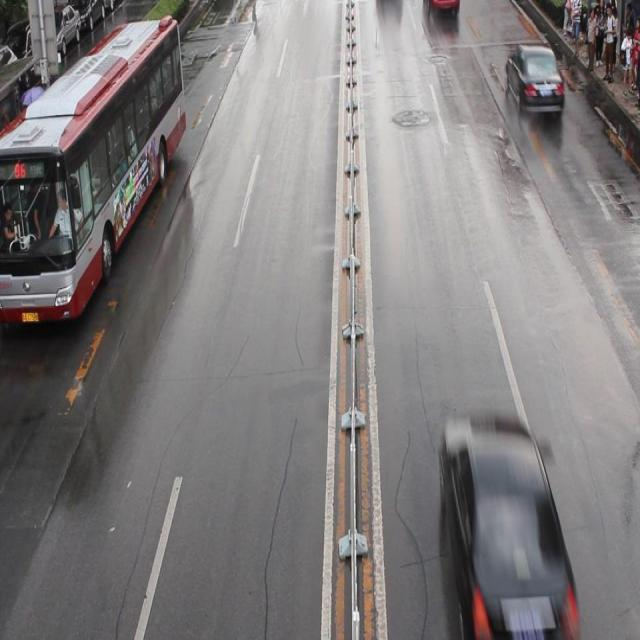car: (440, 418, 570, 623), (506, 43, 562, 111)
van: (1, 17, 186, 321)
